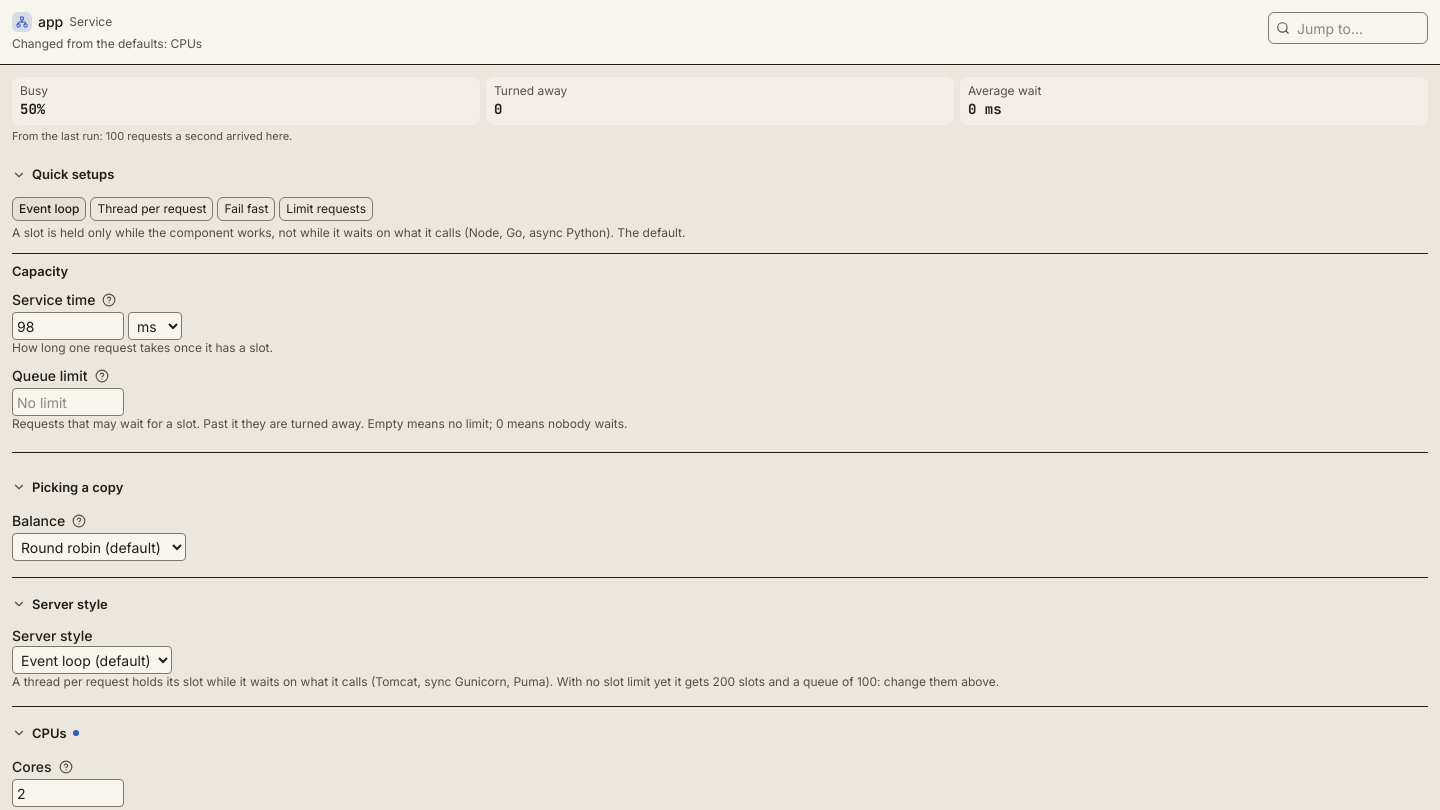
Test: the_cores_box_refuses_zero_and_too_many_and_sends_nothing
The width and height of the screenshot is (1440, 810).
Replace the text in the number field labelled "Cores" with "-1" at (68, 793), box x1=12 y1=779 x2=124 y2=807
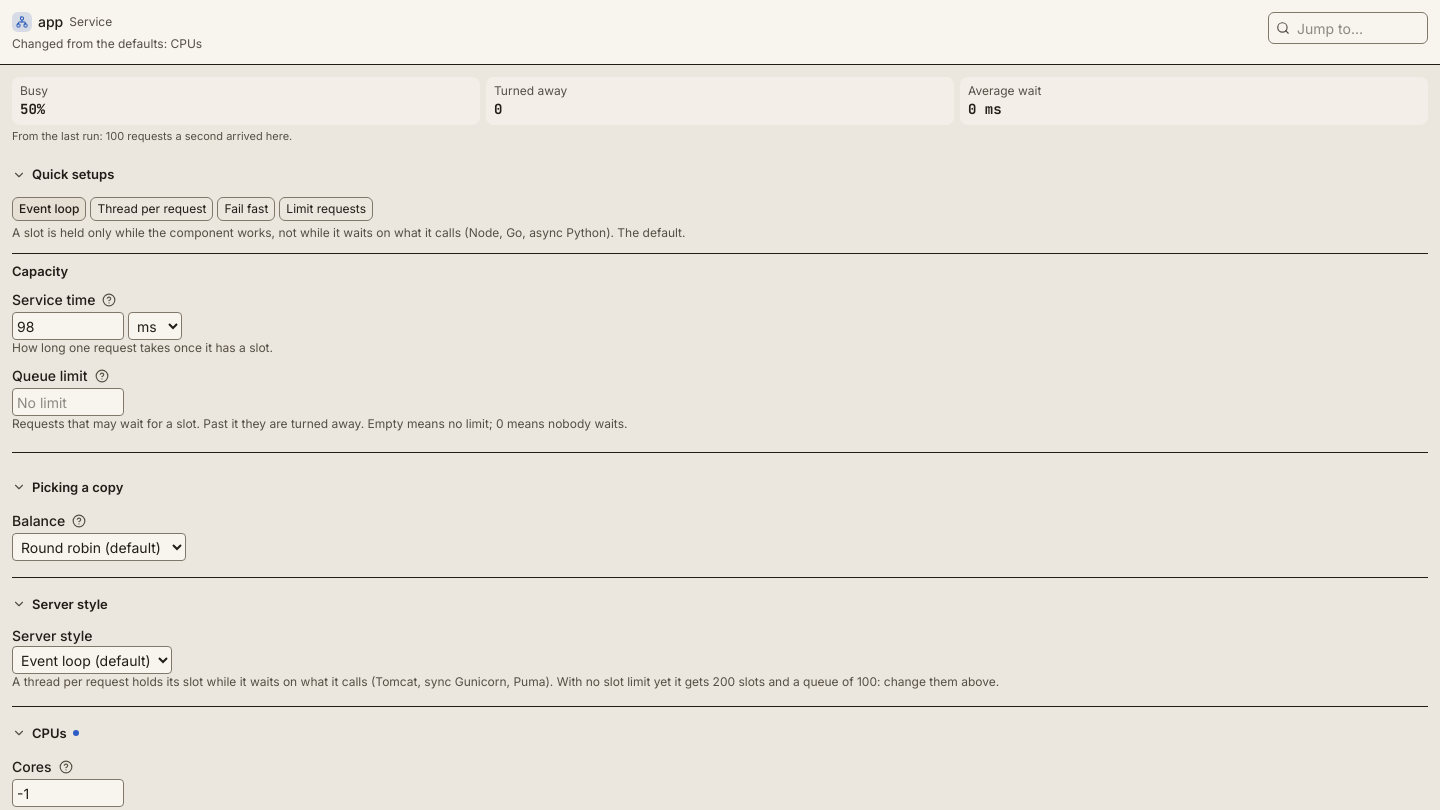
Leave the number field labelled "Cores", box x1=12 y1=779 x2=124 y2=807
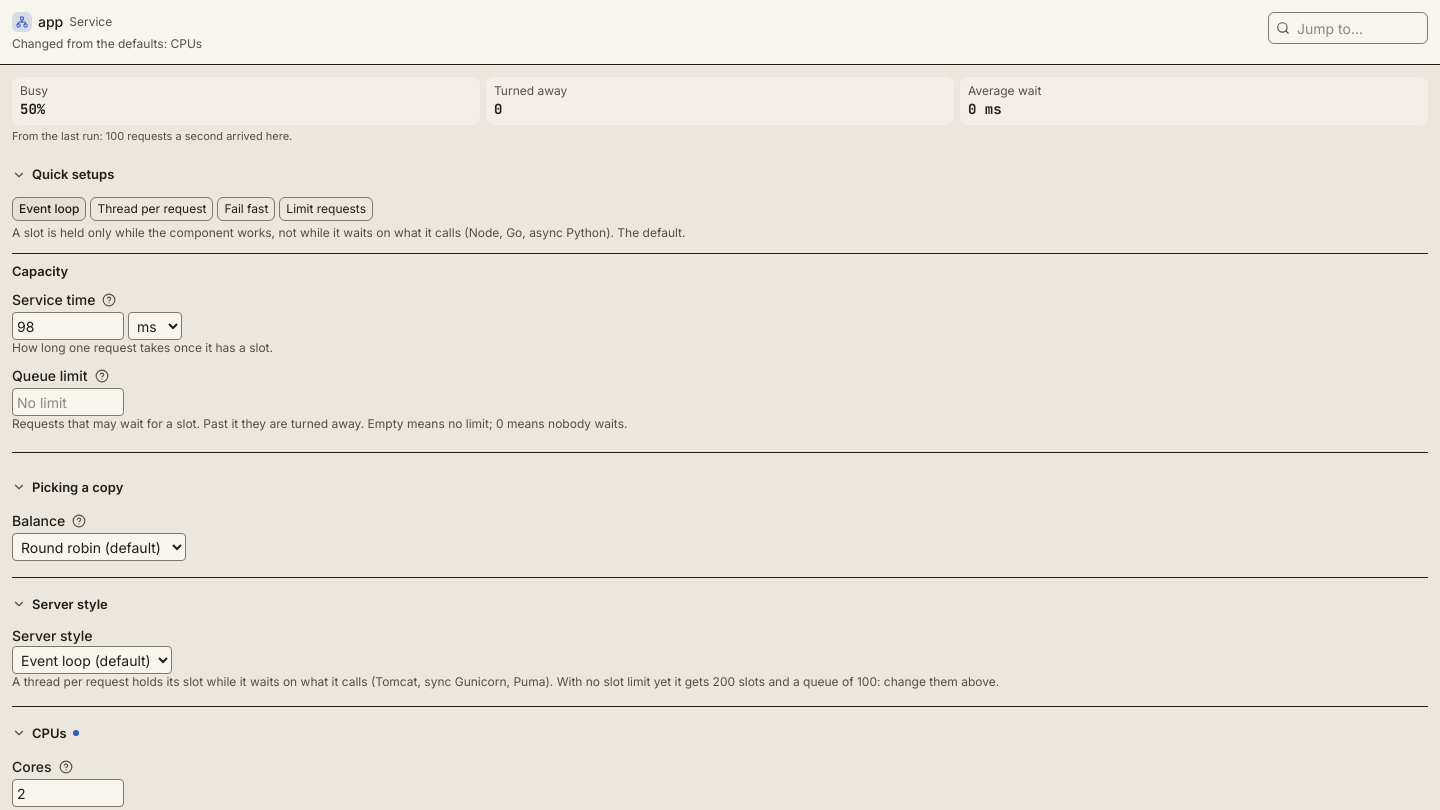
Result: the number field labelled "Cores" holds "2"
Replace the text in the number field labelled "Cores" with "5000" at (68, 793), box x1=12 y1=779 x2=124 y2=807
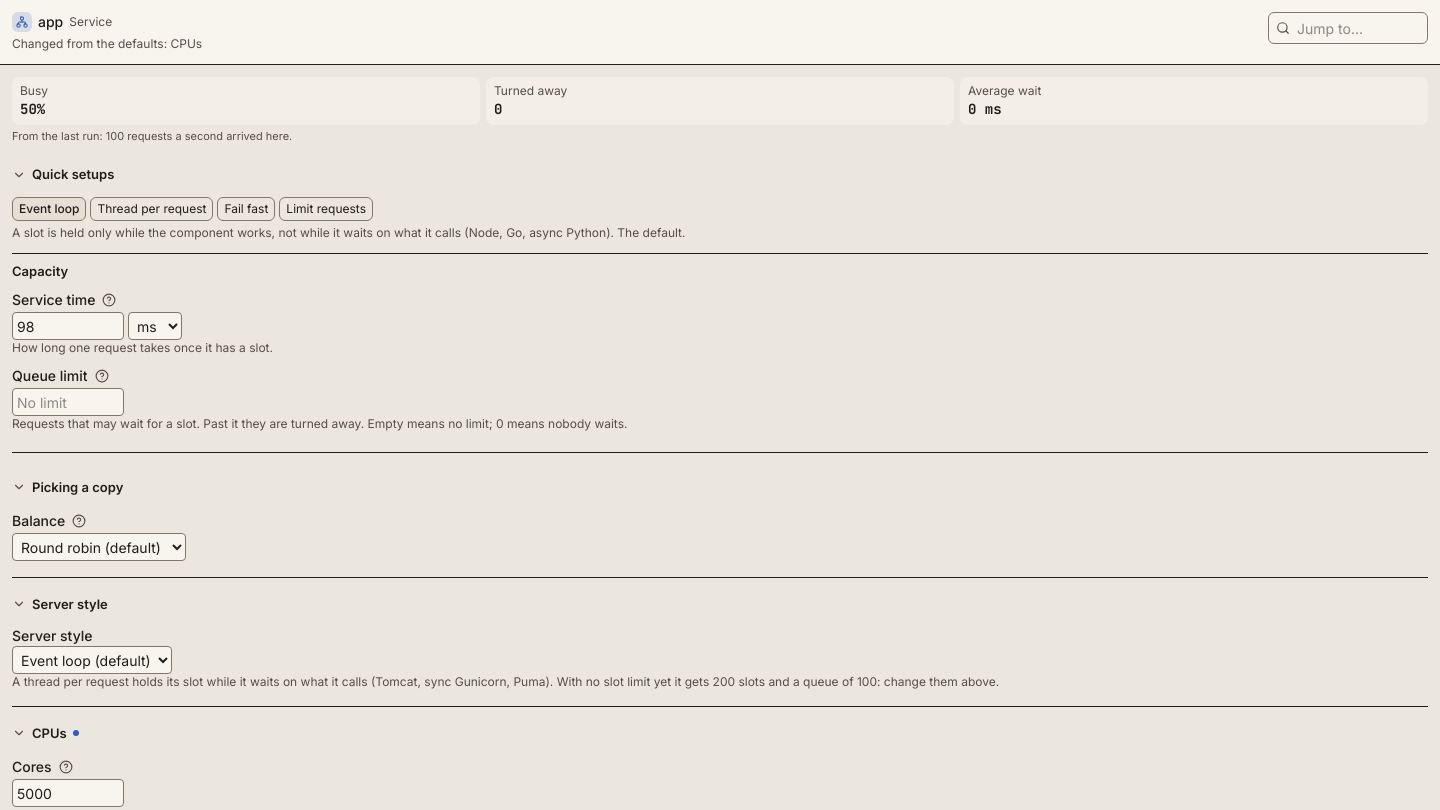
Leave the number field labelled "Cores", box x1=12 y1=779 x2=124 y2=807
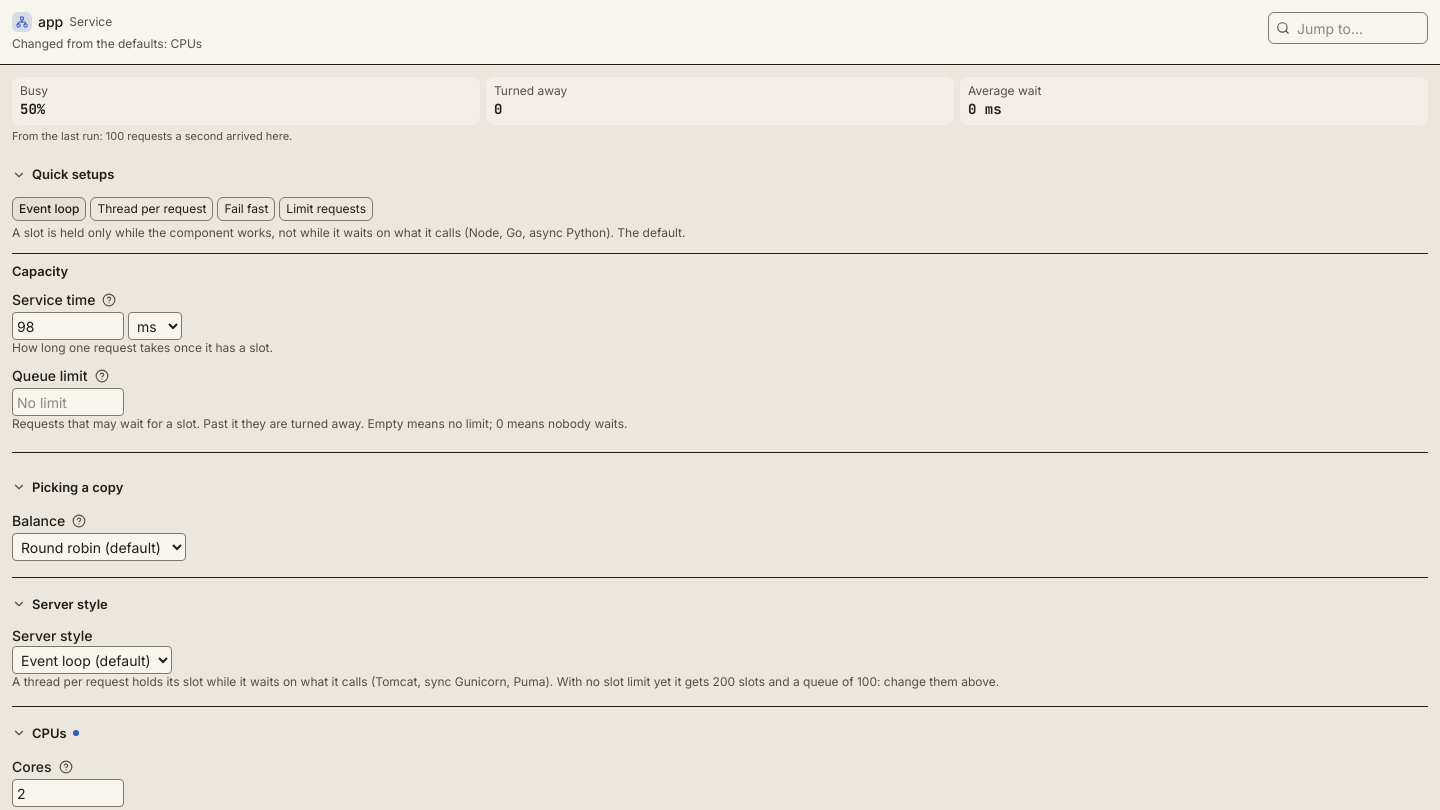
Result: the number field labelled "Cores" holds "2" at x1=12 y1=779 x2=124 y2=807
